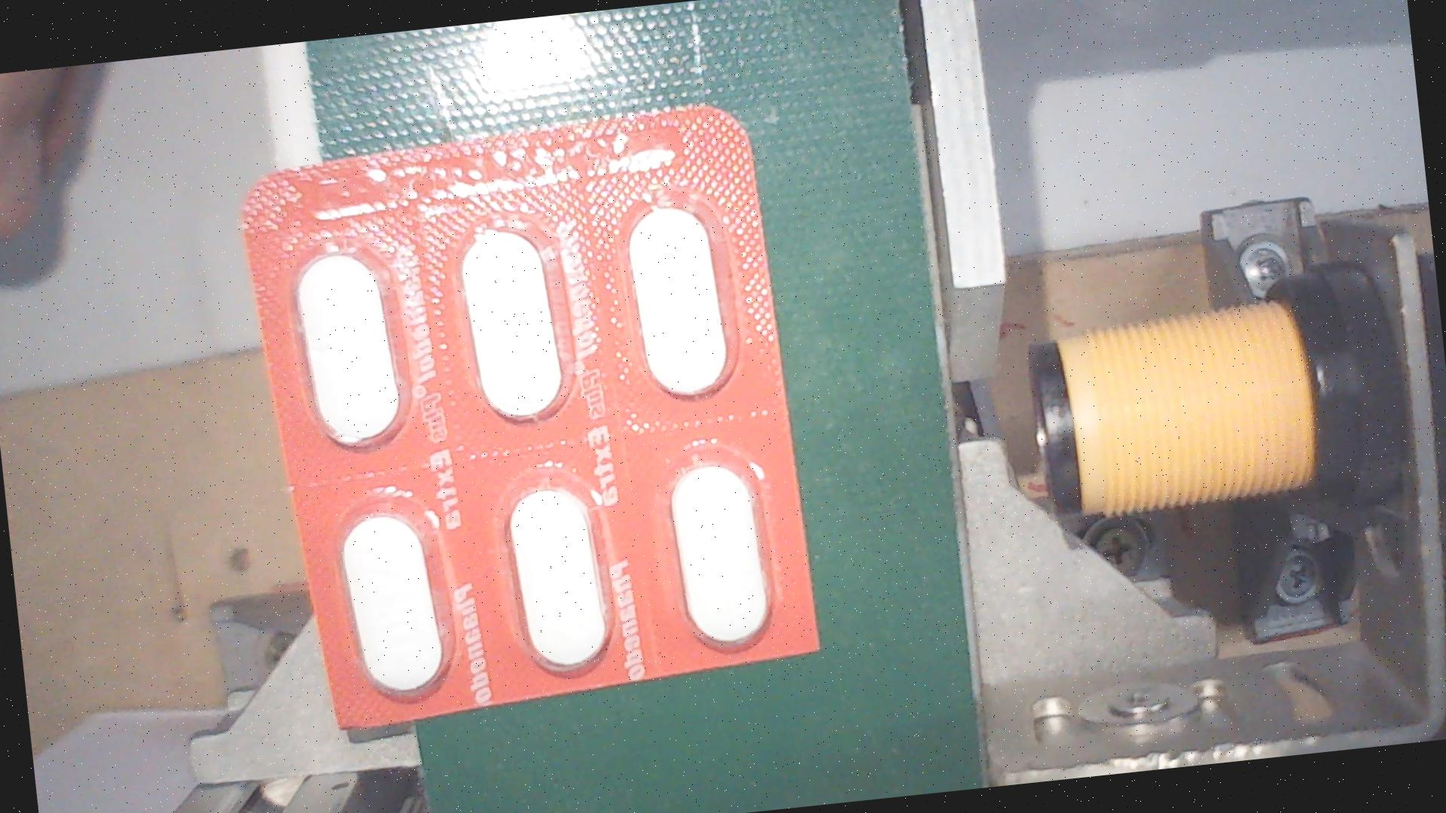Full: (651, 448, 789, 662), (324, 498, 461, 713), (490, 472, 627, 687), (610, 194, 747, 408), (442, 218, 579, 432), (281, 239, 418, 453)
